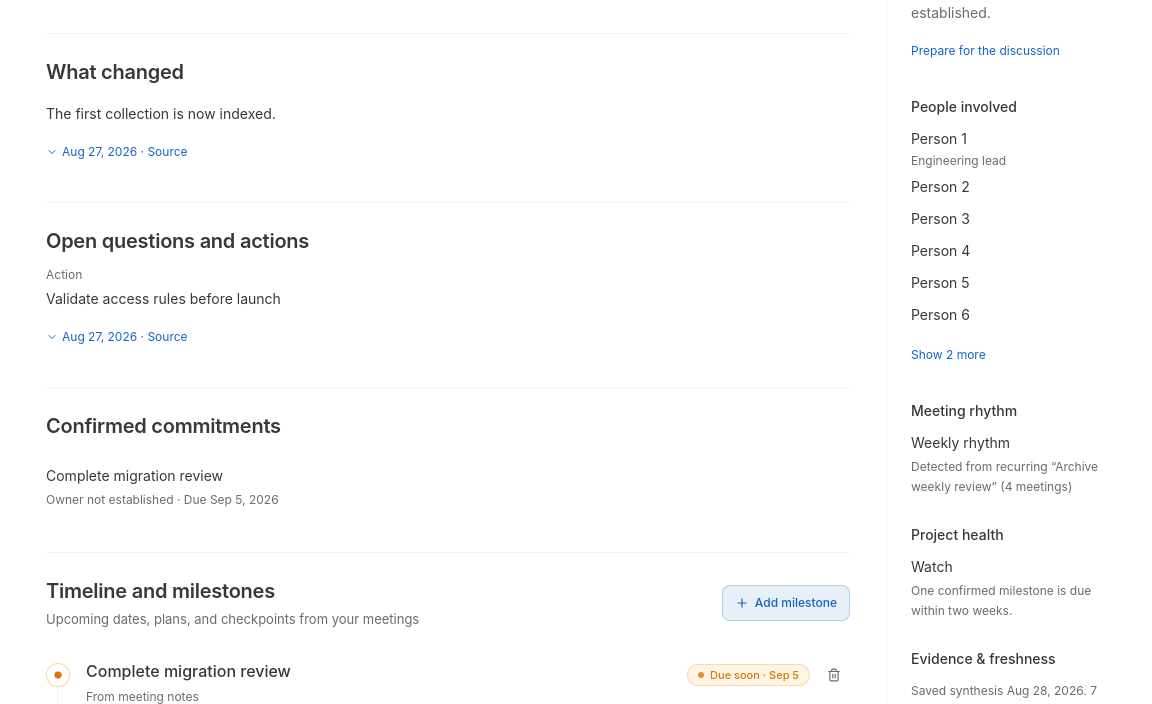
keeps a large people roster compact until the user expands it
The width and height of the screenshot is (1152, 704).
(page scrolled)
Click the button "Show 2 more": (948, 355) top-left (911, 337), bottom-right (986, 373)
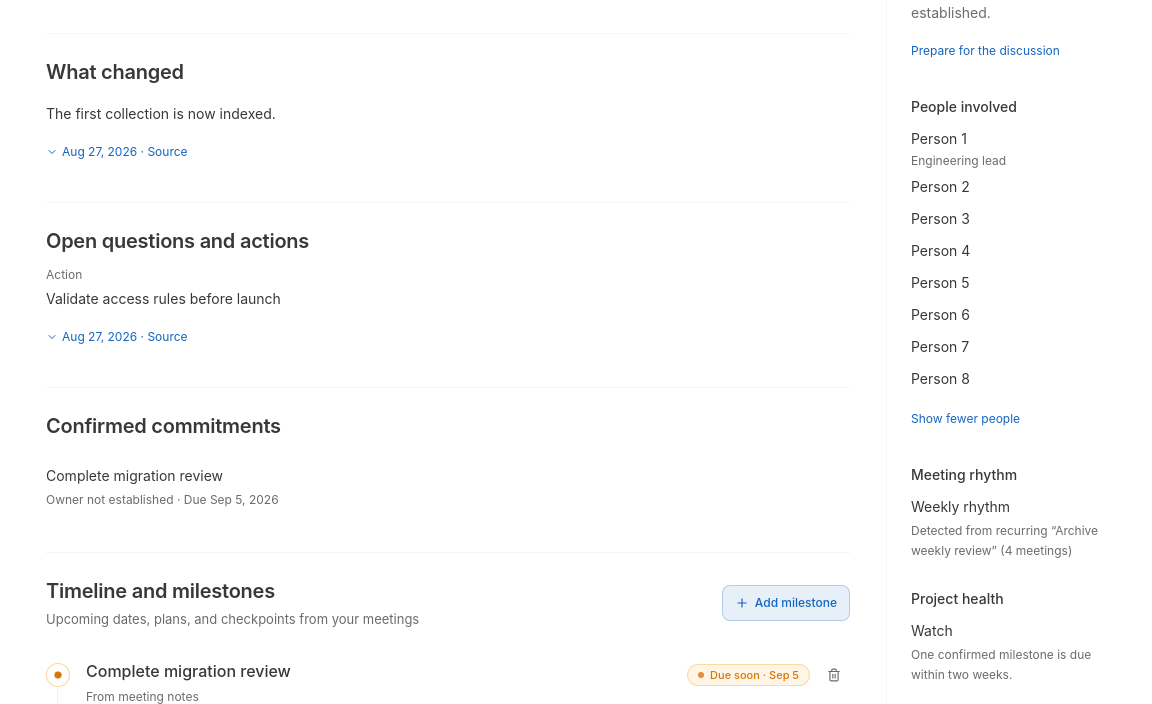
Expected: the text "Show fewer people" is shown, top-left (911, 401), bottom-right (1020, 437)
